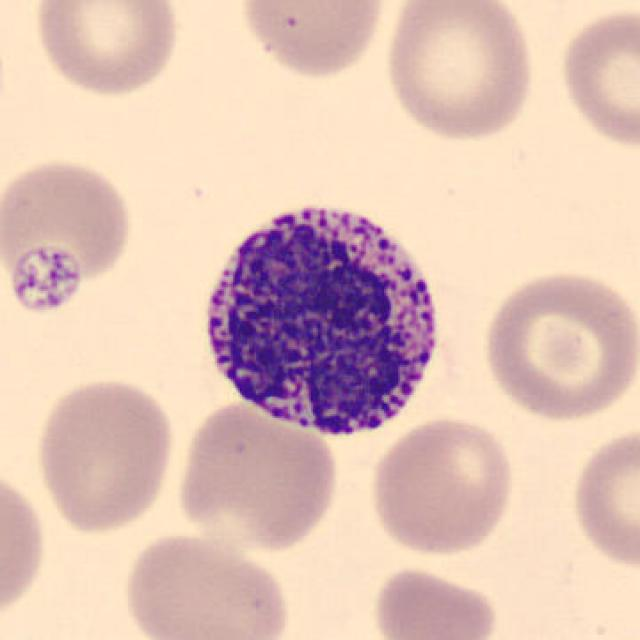Basophil: (187, 184, 457, 452)
Platelets: (5, 240, 86, 317)
RBC: (173, 397, 343, 555), (476, 263, 638, 425), (30, 372, 178, 536), (378, 0, 540, 143), (0, 152, 137, 321), (364, 412, 518, 559), (118, 529, 294, 640), (28, 0, 185, 99), (554, 5, 640, 153), (235, 0, 391, 81), (567, 421, 640, 573), (366, 562, 503, 640), (0, 462, 52, 633)
